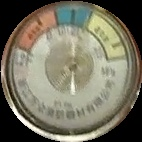green: (56, 3, 94, 31)
red: (15, 10, 58, 53)
yellow: (87, 11, 128, 62)
